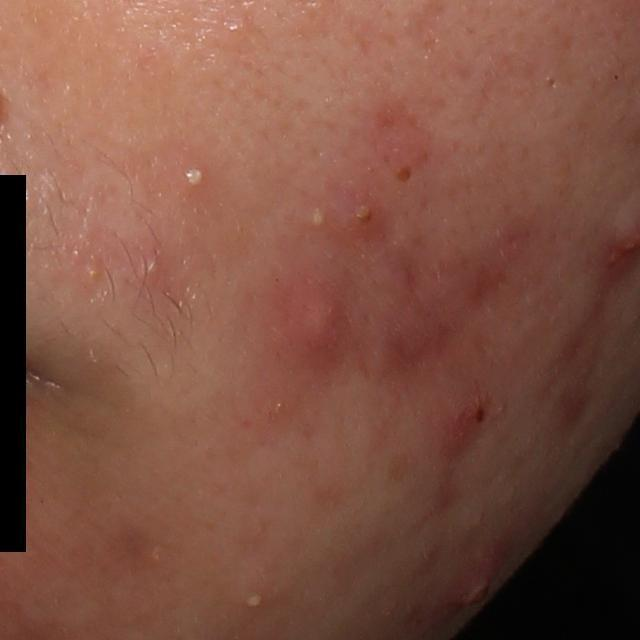comedo: (390, 162, 419, 188), (225, 19, 248, 37), (86, 263, 103, 281)
papule: (290, 286, 344, 353), (437, 394, 490, 459)
pustule: (446, 549, 497, 620), (179, 163, 213, 198), (138, 248, 170, 282), (241, 591, 266, 612)
